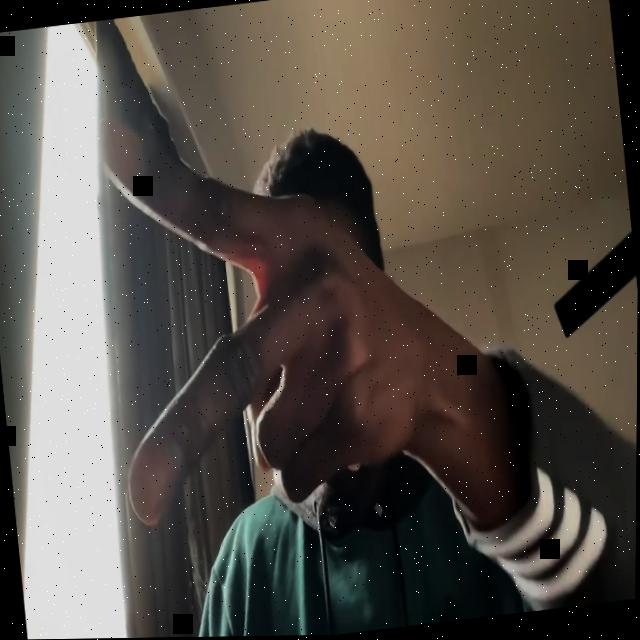Scissors: (88, 77, 435, 531)
